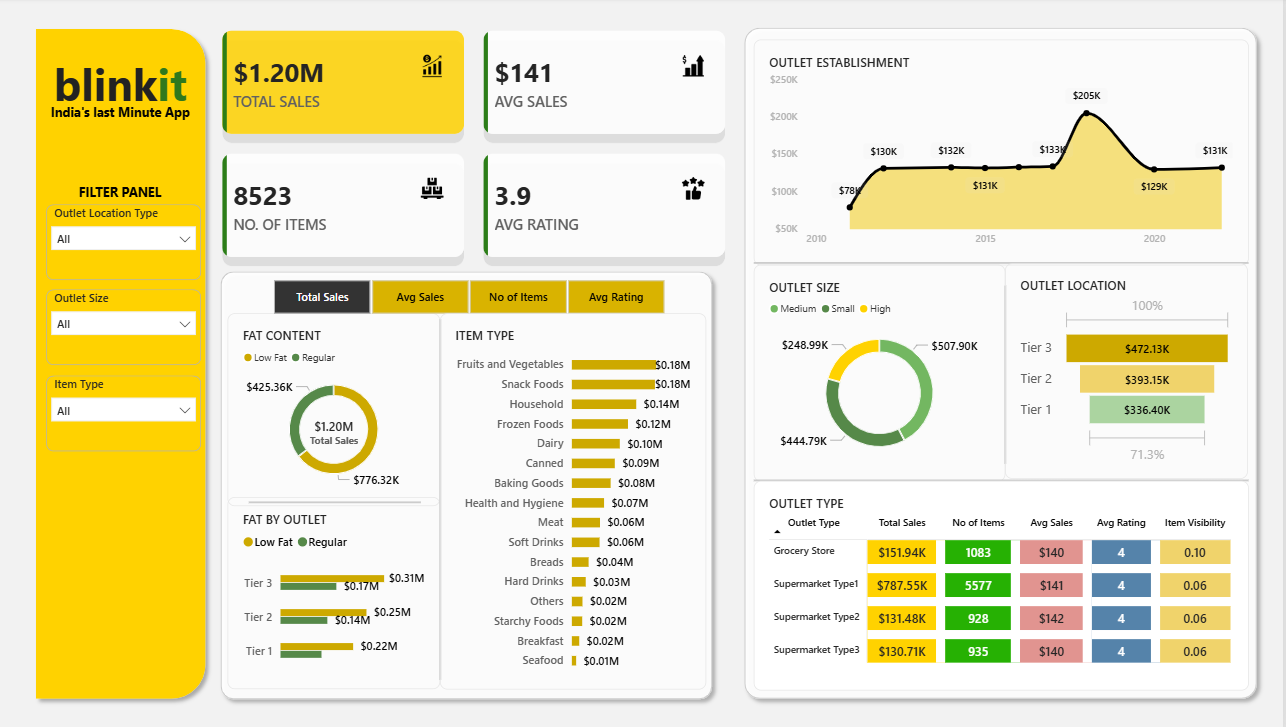

The dashboard page shown, as its layout file describes it:
{"tool":"powerbi","page":{"name":"Page 1","canvas":[1400,800],"ordinal":0},"visuals":[{"type":"shape","box":[30,25.9,203.1,748.5],"z":0},{"type":"textbox","box":[50,62,162,70],"z":1000},{"type":"textbox","box":[50,115.7,161.4,25.7],"z":2000},{"type":"cardVisual","fields":{"Data":["BlinkIT Grocery Data.Total Sales","BlinkIT Grocery Data.Avg Sales","BlinkIT Grocery Data.No of Items","BlinkIT Grocery Data.Avg Rating"]},"box":[232,25.2,571.2,269.8],"z":3000},{"type":"shape","box":[232,290.4,553.9,484.5],"z":4000},{"type":"donutChart","title":"FAT CONTENT","fields":{"Category":["BlinkIT Grocery Data.Item Fat Content"],"Y":["BlinkIT Grocery Data.Total Sales"]},"box":[247.7,345.6,232,210],"z":5000},{"type":"slicer","fields":{"Values":["Metrics.Metrics"]},"box":[277.7,306.1,465.5,40],"z":6000},{"type":"cardVisual","fields":{"Data":["BlinkIT Grocery Data.Total Sales"]},"box":[312.4,438.7,104.1,71],"z":7000},{"type":"clusteredBarChart","title":"FAT BY OUTLET","fields":{"Category":["BlinkIT Grocery Data.Outlet Location Type"],"Series":["BlinkIT Grocery Data.Item Fat Content"],"Y":["BlinkIT Grocery Data.Total Sales"]},"box":[247.7,546,232,209.9],"z":8000},{"type":"shape","box":[271.4,538.1,187.8,25.2],"z":9000},{"type":"shape","box":[467.1,351.9,25.2,392.9],"z":10000},{"type":"barChart","title":"ITEM TYPE","fields":{"Category":["BlinkIT Grocery Data.Item Type"],"Y":["BlinkIT Grocery Data.Total Sales"]},"box":[479.7,345.6,290.4,410.3],"z":11000},{"type":"shape","box":[803,24.5,576.7,749.8],"z":12000},{"type":"lineChart","title":"OUTLET ESTABLISHMENT","fields":{"Category":["BlinkIT Grocery Data.Outlet Establishment Year"],"Y":["BlinkIT Grocery Data.Total Sales"]},"box":[822.1,45.8,539.7,246.2],"z":13000},{"type":"shape","box":[822.1,273,539.7,34.7],"z":14000},{"type":"donutChart","title":"OUTLET SIZE","fields":{"Category":["BlinkIT Grocery Data.Outlet Size"],"Y":["BlinkIT Grocery Data.Total Sales"]},"box":[822.1,291.9,274.6,236.7],"z":15000},{"type":"shape","box":[1084.1,315.6,25.2,194.1],"z":16000},{"type":"funnel","title":"OUTLET LOCATION","fields":{"Category":["BlinkIT Grocery Data.Outlet Location Type"],"Y":["BlinkIT Grocery Data.Total Sales"]},"box":[1096.7,290.4,265.1,235.1],"z":17000},{"type":"shape","box":[822.1,509.7,539.7,34.7],"z":18000},{"type":"pivotTable","title":"OUTLET TYPE","fields":{"Rows":["BlinkIT Grocery Data.Outlet Type"],"Values":["BlinkIT Grocery Data.Total Sales","BlinkIT Grocery Data.No of Items","BlinkIT Grocery Data.Avg Sales","BlinkIT Grocery Data.Avg Rating","Avg(BlinkIT Grocery Data.Item Visibility)"]},"box":[822.1,527.1,539.7,228.8],"z":19000},{"type":"slicer","fields":{"Values":["BlinkIT Grocery Data.Outlet Location Type"]},"box":[50.5,225.7,168.8,82.1],"z":20000},{"type":"slicer","fields":{"Values":["BlinkIT Grocery Data.Outlet Size"]},"box":[50.5,318.8,168.8,82.1],"z":21000},{"type":"slicer","fields":{"Values":["BlinkIT Grocery Data.Item Type"]},"box":[50.5,413.4,168.8,82.1],"z":22000},{"type":"textbox","box":[50.5,203.6,161,22.1],"z":22001}]}

Visuals, with their boxes in screenshot pixels (x1, y1, x2, y2), scaled from the page's 1400x800 canvas onto the 1286x727 screenshot:
shape: <bbox>28, 24, 214, 704</bbox>
textbox: <bbox>46, 56, 195, 120</bbox>
textbox: <bbox>46, 105, 194, 128</bbox>
cardVisual - BlinkIT Grocery Data.Total Sales x BlinkIT Grocery Data.Avg Sales: <bbox>213, 23, 738, 268</bbox>
shape: <bbox>213, 264, 722, 704</bbox>
"FAT CONTENT" donutChart: <bbox>228, 314, 441, 505</bbox>
slicer - Metrics.Metrics: <bbox>255, 278, 683, 315</bbox>
cardVisual - BlinkIT Grocery Data.Total Sales: <bbox>287, 399, 383, 463</bbox>
"FAT BY OUTLET" clusteredBarChart: <bbox>228, 496, 441, 687</bbox>
shape: <bbox>249, 489, 422, 512</bbox>
shape: <bbox>429, 320, 452, 677</bbox>
"ITEM TYPE" barChart: <bbox>441, 314, 707, 687</bbox>
shape: <bbox>738, 22, 1267, 704</bbox>
"OUTLET ESTABLISHMENT" lineChart: <bbox>755, 42, 1251, 265</bbox>
shape: <bbox>755, 248, 1251, 280</bbox>
"OUTLET SIZE" donutChart: <bbox>755, 265, 1007, 480</bbox>
shape: <bbox>996, 287, 1019, 463</bbox>
"OUTLET LOCATION" funnel: <bbox>1007, 264, 1251, 478</bbox>
shape: <bbox>755, 463, 1251, 495</bbox>
"OUTLET TYPE" pivotTable: <bbox>755, 479, 1251, 687</bbox>
slicer - BlinkIT Grocery Data.Outlet Location Type: <bbox>46, 205, 201, 280</bbox>
slicer - BlinkIT Grocery Data.Outlet Size: <bbox>46, 290, 201, 364</bbox>
slicer - BlinkIT Grocery Data.Item Type: <bbox>46, 376, 201, 450</bbox>
textbox: <bbox>46, 185, 194, 205</bbox>
